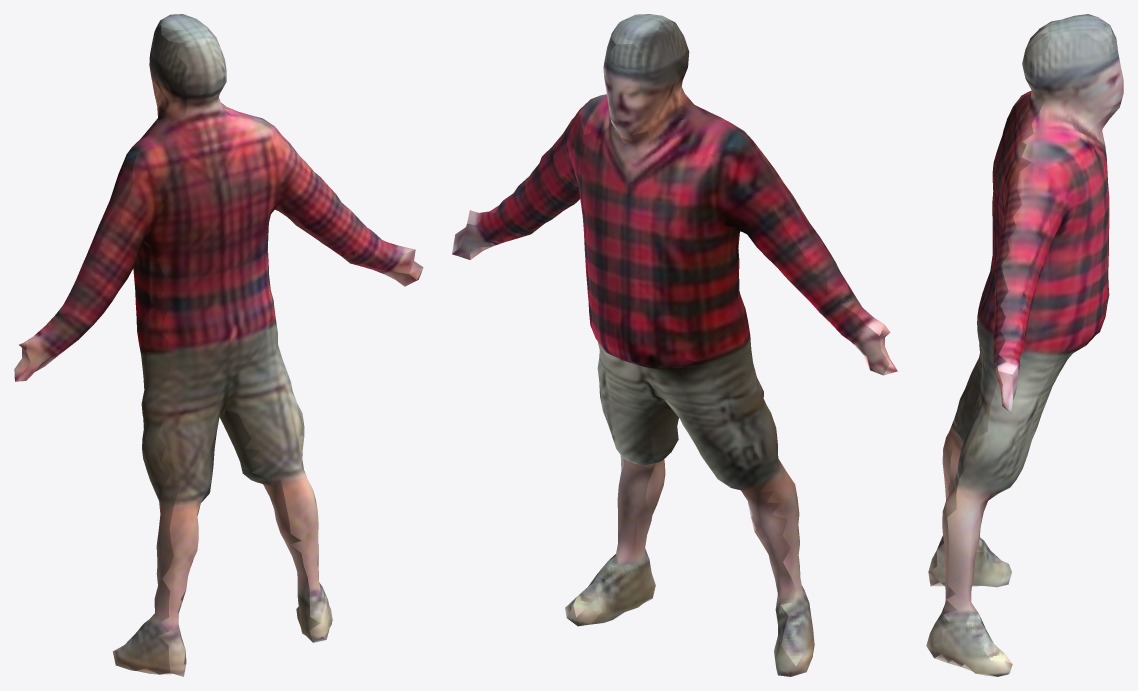
3 renders of one model, left to right at view 1: azimuth 30°, elevation 25°; view 2: azimuth 150°, elevation 25°; view 3: azimuth 270°, elevation 25°, orthographic. The views are drawn at different scales.
Parts seen in each view (by area): view 1: world; view 2: world; view 3: world.
Part boxes in pixels (<box>): world: <box>14,14,423,676</box>; world: <box>452,14,897,676</box>; world: <box>926,14,1123,676</box>.
Size of the model in its own units: 0.7125 by 1 by 0.2941.
1 material, 1 textured.
